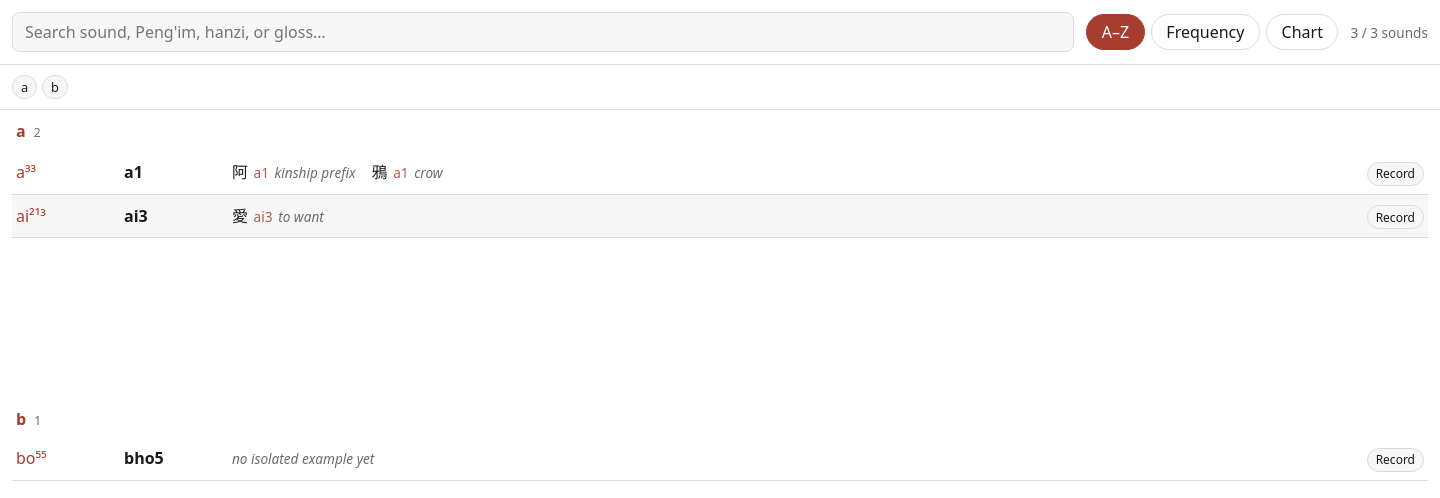
SoundsView › filters by search query across pengim, IPA, and example text
Expected: the text "a³³" is shown, [16,161,36,183]
In the search field named "Search the sound inventory": (543, 32) [12,12,1074,52], type "crow"
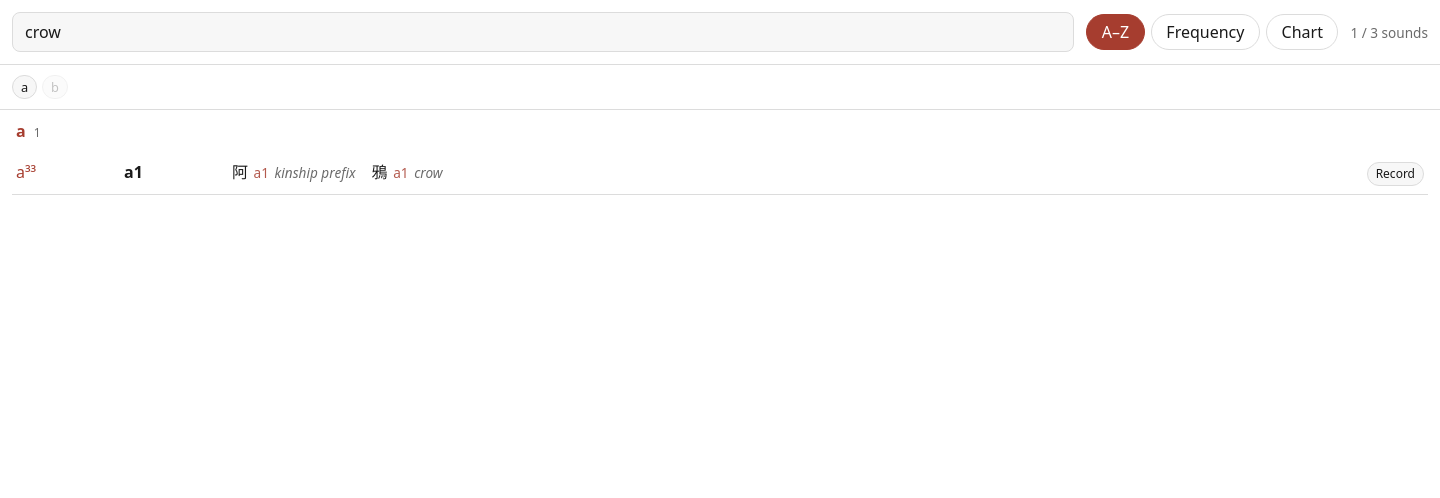
Expected: the text "ai²¹³" is gone
Expected: the text "bho5" is gone
Expected: the text "1 / 3 sounds" is shown, [1350,22,1428,42]
